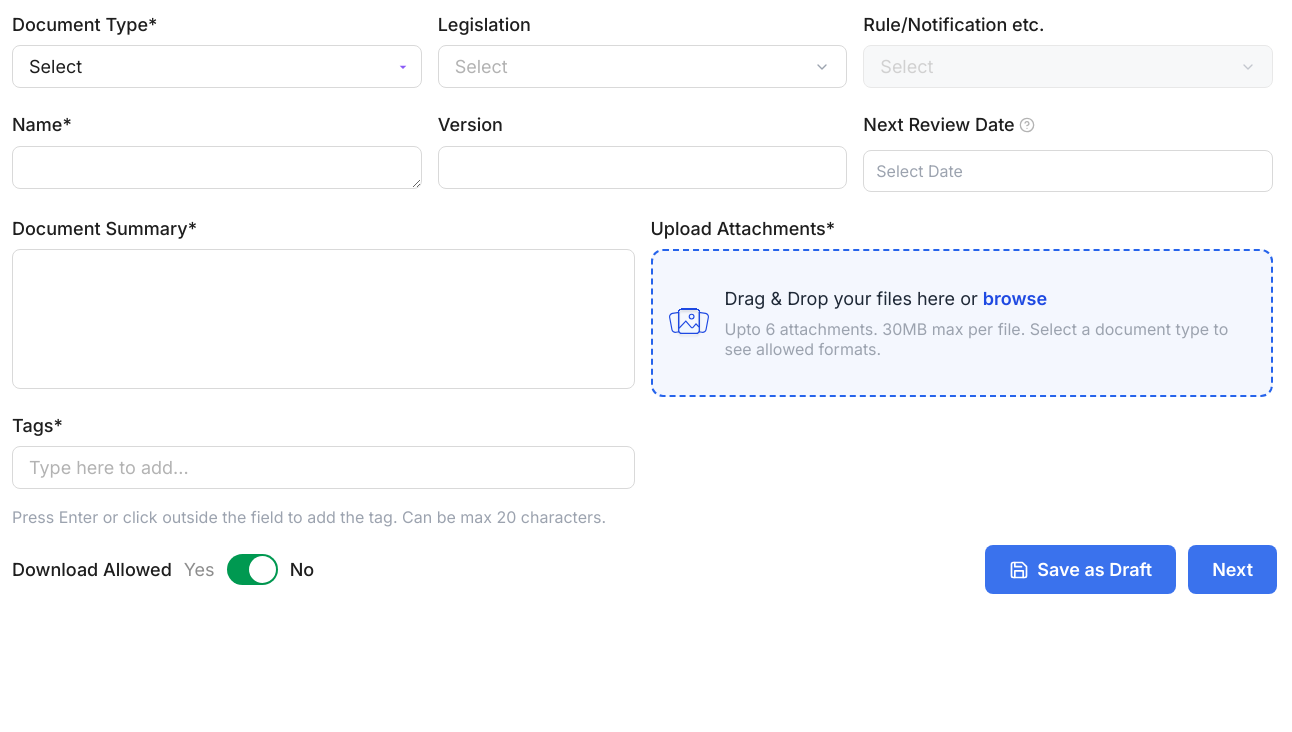
OrchestrationAddDocumentModalStepOne › adds a tag when Enter is pressed in the tag input
The width and height of the screenshot is (1292, 732).
Type "compliance" into the field with placeholder "Type here to add..." at {"x": 323, "y": 468}, box [29,455,618,480]
Then press Enter
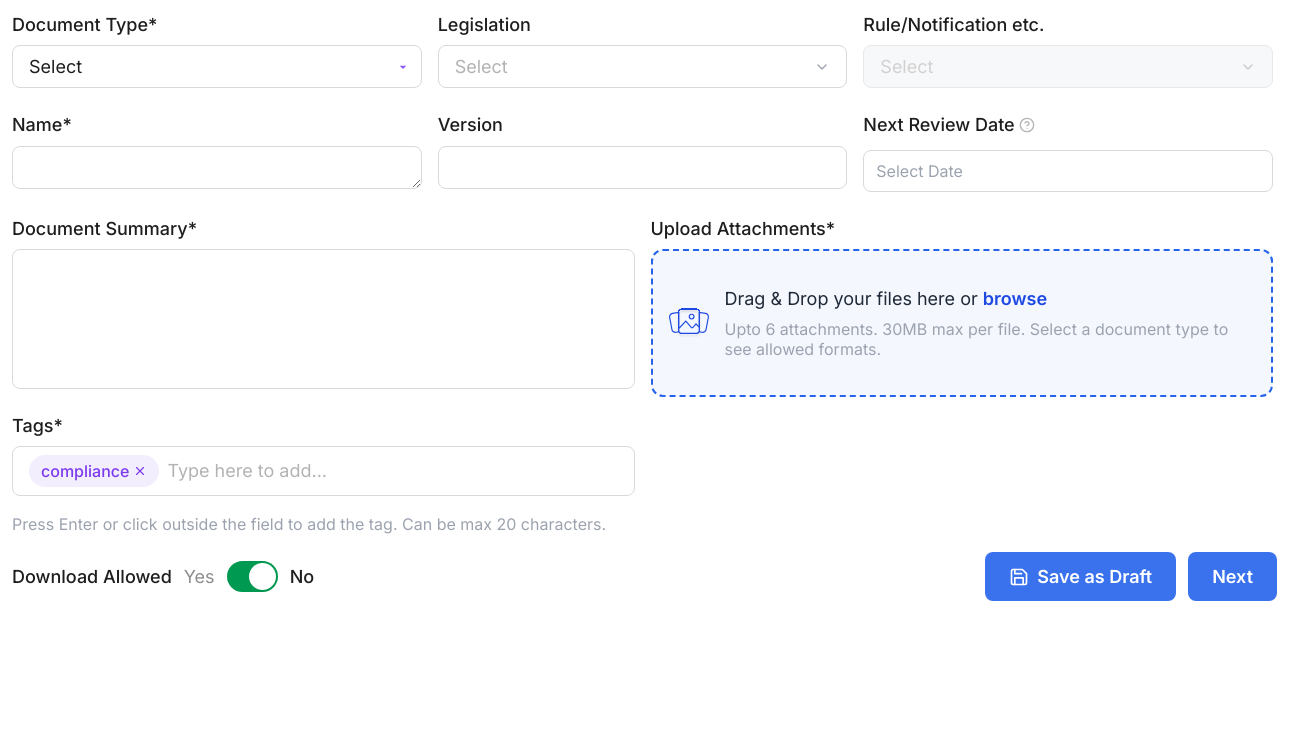
Check: the text "compliance" is shown, box [29,455,159,487]
